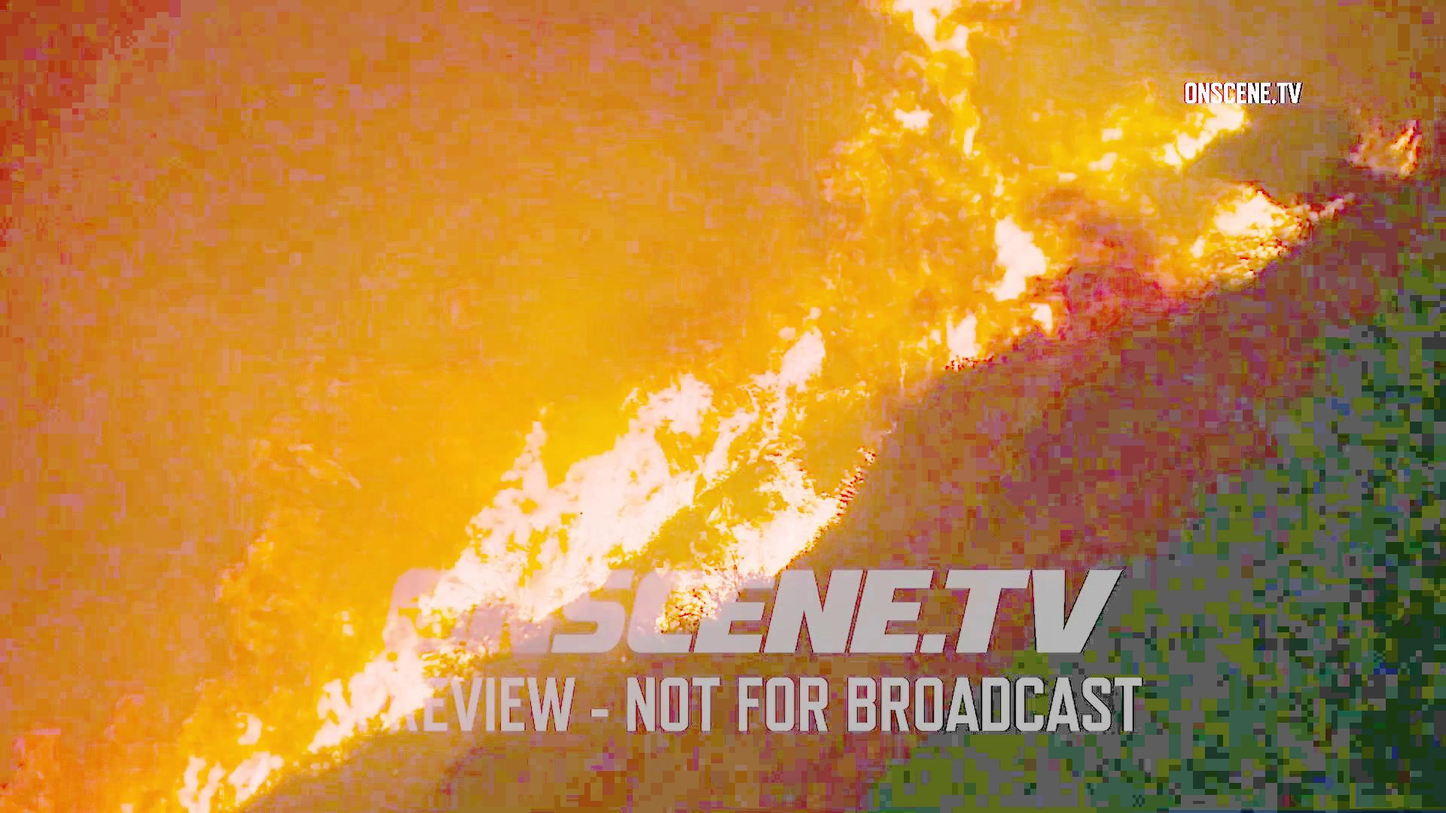fire: (269, 321, 802, 550), (808, 0, 1126, 332)
